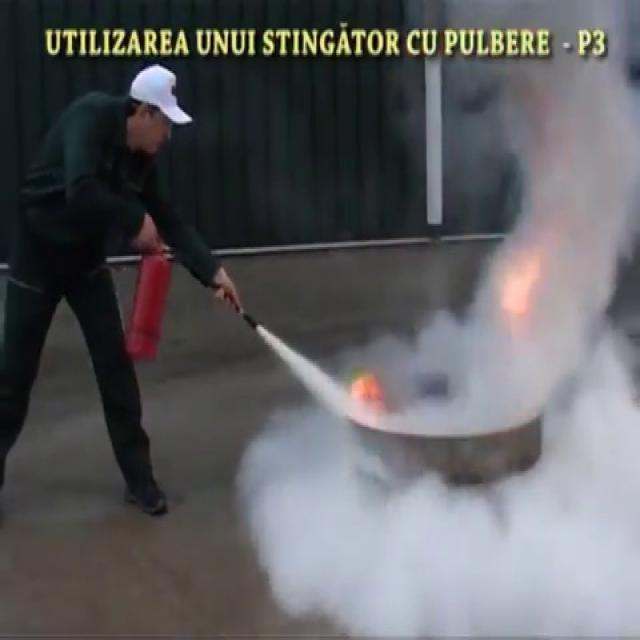Smoke: (388, 0, 640, 638)
